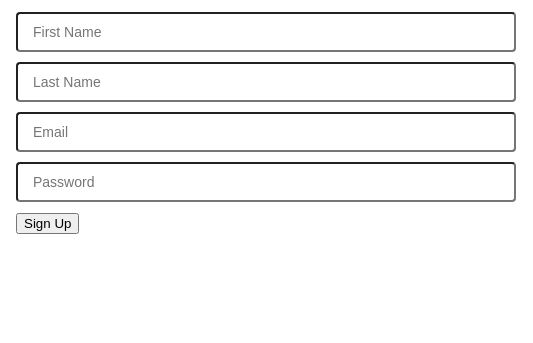
Test case: SignUpForm component › shows password error message when first name exist in
The width and height of the screenshot is (533, 343).
In the field with placeholder "First Name": {"x": 266, "y": 32} [16,12,516,52], type "fname"
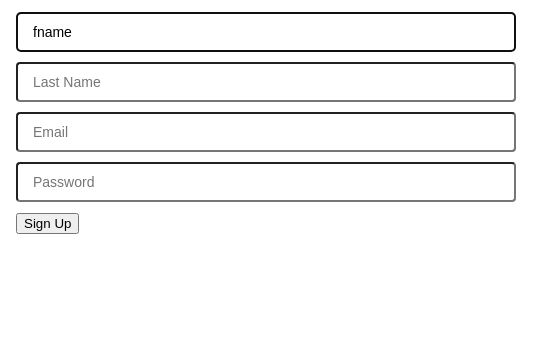
In the password field with test id "password": {"x": 266, "y": 182} [16,162,516,202], type "fnameSDFGHJ"
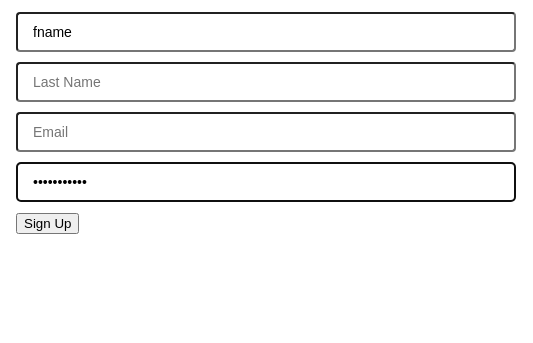
Click the button "Sign Up": {"x": 48, "y": 224} [16,213,79,234]
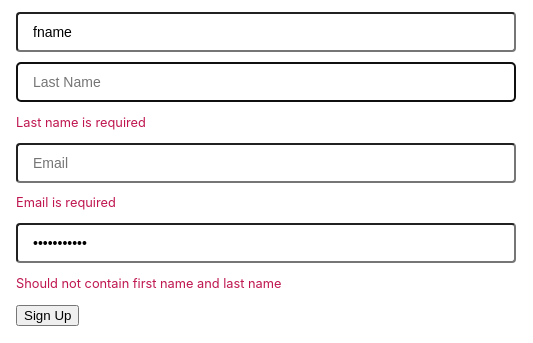
Result: the text "Should not contain first name and last name" is shown at [16,276,282,291]
